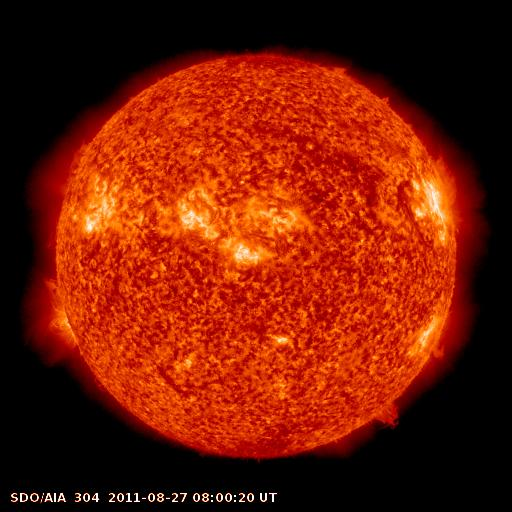prominence: (431, 141, 468, 207), (364, 392, 408, 433), (58, 136, 90, 192), (421, 336, 451, 365)
